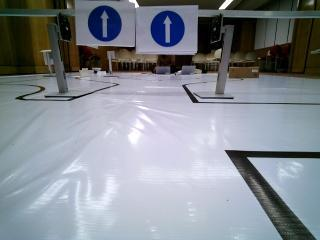straight: (138, 6, 196, 52), (73, 0, 131, 45)
